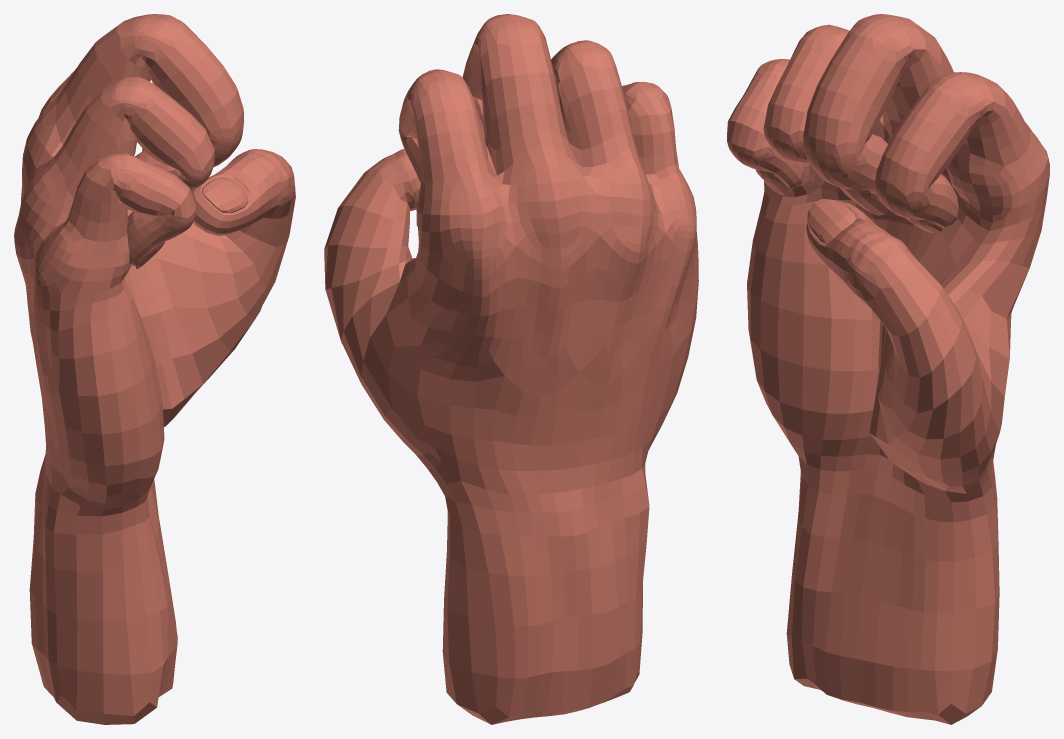
Rendered from yaahchoti.glb.
The picture shows the model from 3 angles, left to right: view 1: azimuth 30°, elevation 25°; view 2: azimuth 150°, elevation 25°; view 3: azimuth 270°, elevation 25°; orthographic projection. The views are drawn at different scales.
Visible parts, largest first — view 1: ZBrushPolyMesh3D; view 2: ZBrushPolyMesh3D; view 3: ZBrushPolyMesh3D.
Boxes of the visible parts, left/top/right/bottom form: ZBrushPolyMesh3D: left=14, top=14, right=295, bottom=724; ZBrushPolyMesh3D: left=324, top=14, right=698, bottom=724; ZBrushPolyMesh3D: left=727, top=14, right=1049, bottom=724.
Size of the model in its own units: 2.1 by 4.35 by 1.82.
